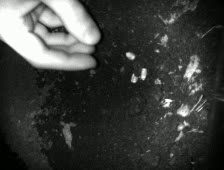corn: (127, 72, 141, 86), (137, 66, 148, 81), (123, 50, 138, 61)
